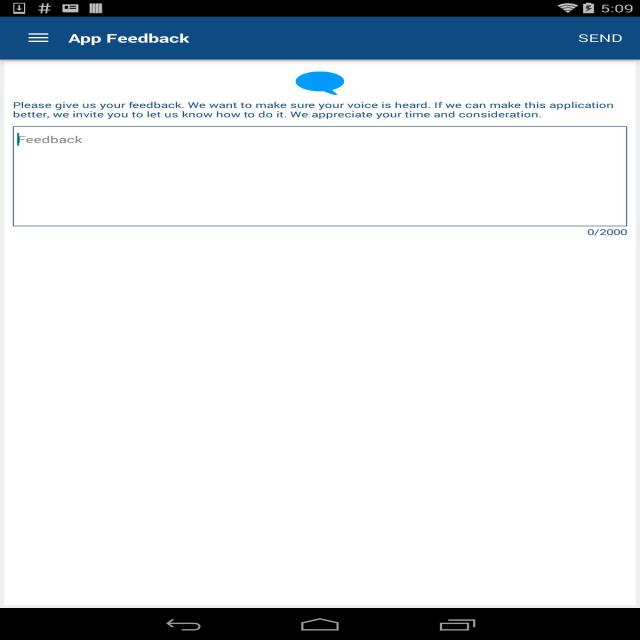button: (572, 31, 630, 47), (23, 28, 52, 47)
field: (13, 126, 630, 227)
heading: (64, 32, 201, 46)
image: (284, 66, 356, 97)
label: (17, 130, 84, 145)
text: (11, 97, 620, 122), (580, 227, 631, 238)
